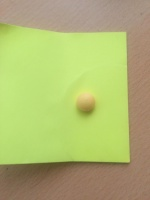Nurofen: (75, 91, 96, 113)
